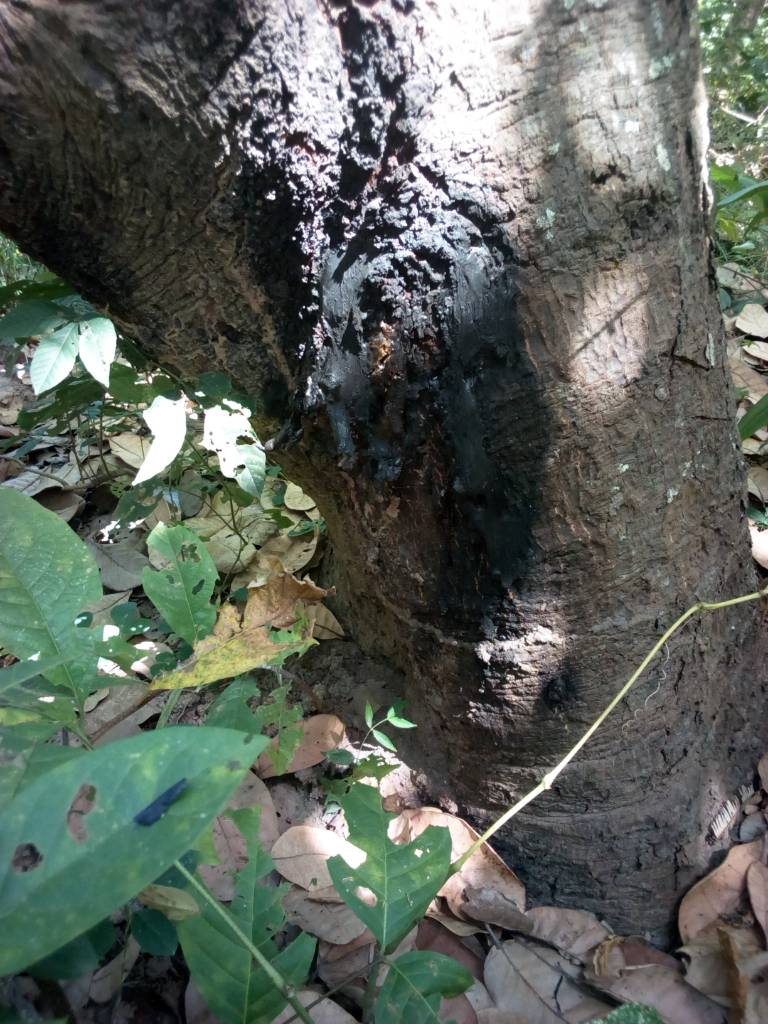Gommose: (274, 66, 536, 628)
